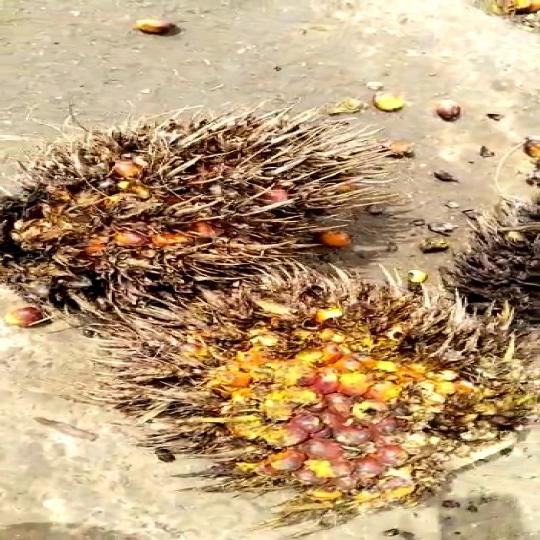terlalu masak: (80, 274, 540, 506), (0, 110, 389, 326)
